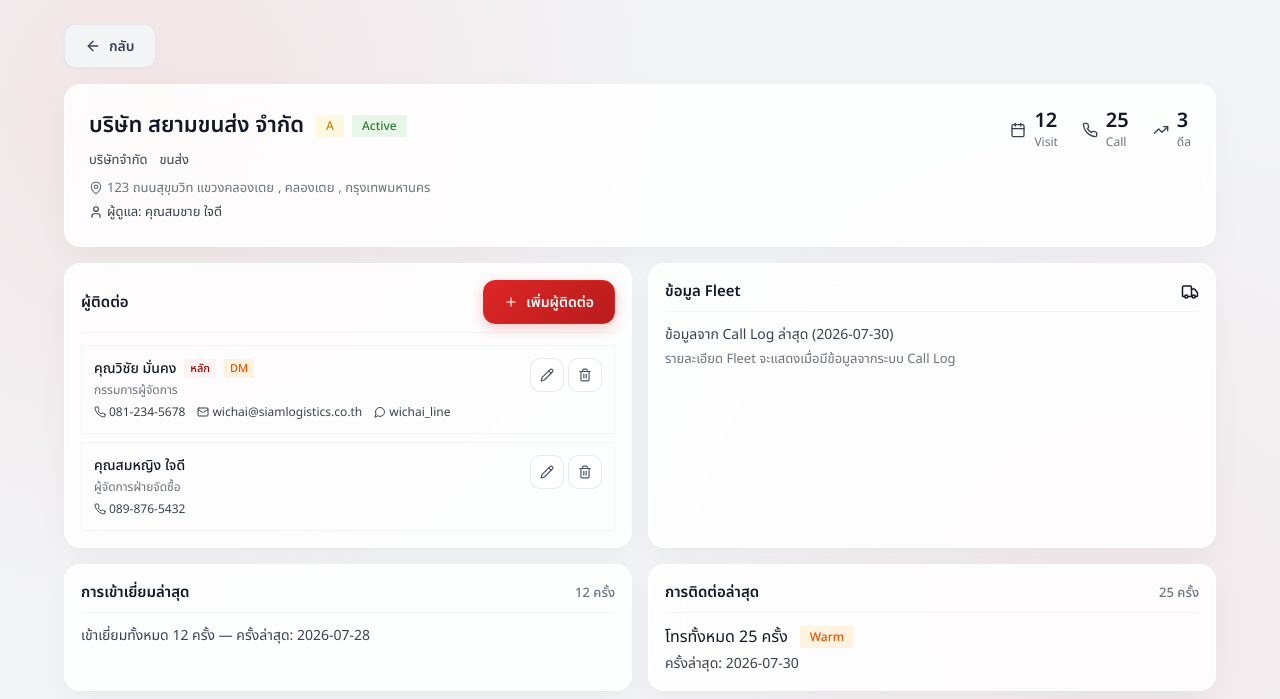
Test: CustomerDetail › renders add contact button and opens inline form
The image size is (1280, 699).
Click the button "เพิ่มผู้ติดต่อ".
click(549, 302)  # box [483,280,615,324]
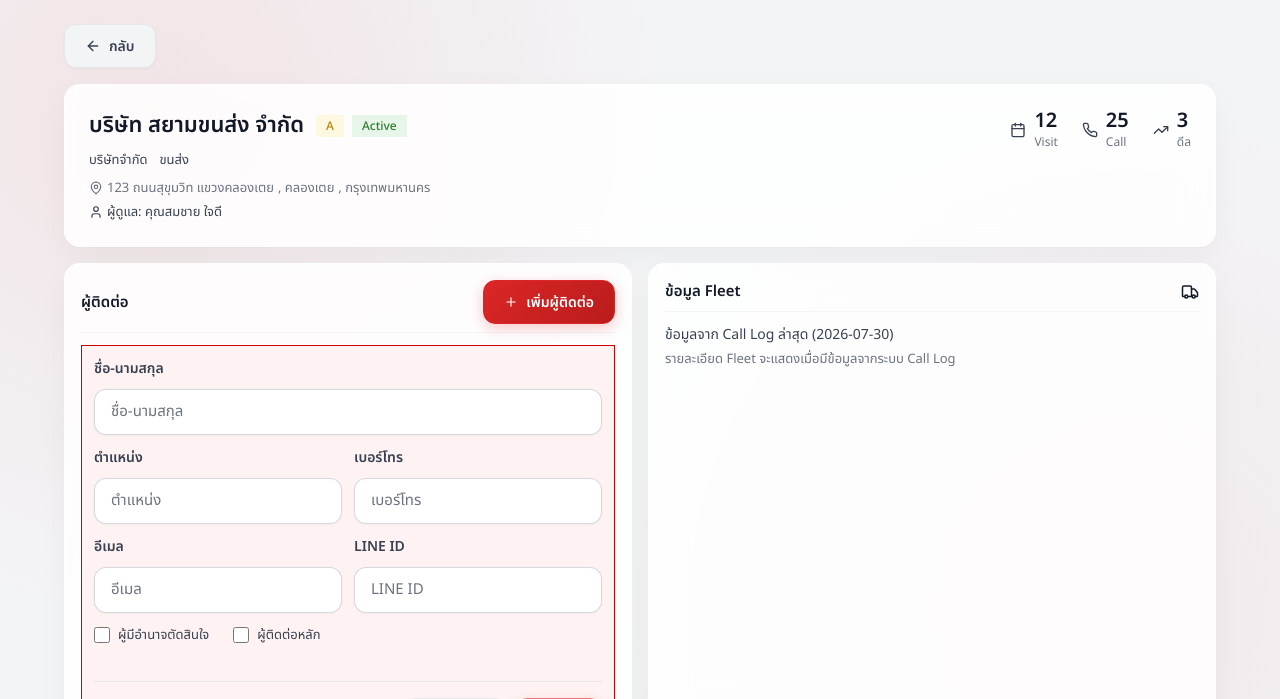
Now the field labelled "ชื่อ-นามสกุล" is shown, box [94,389,602,435]
